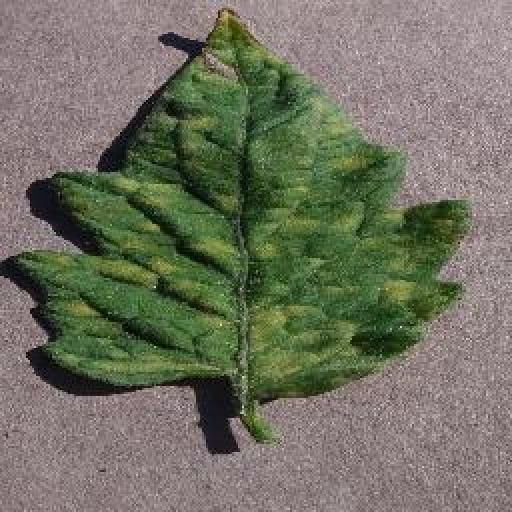Leaf Mold: (10, 5, 471, 400)
